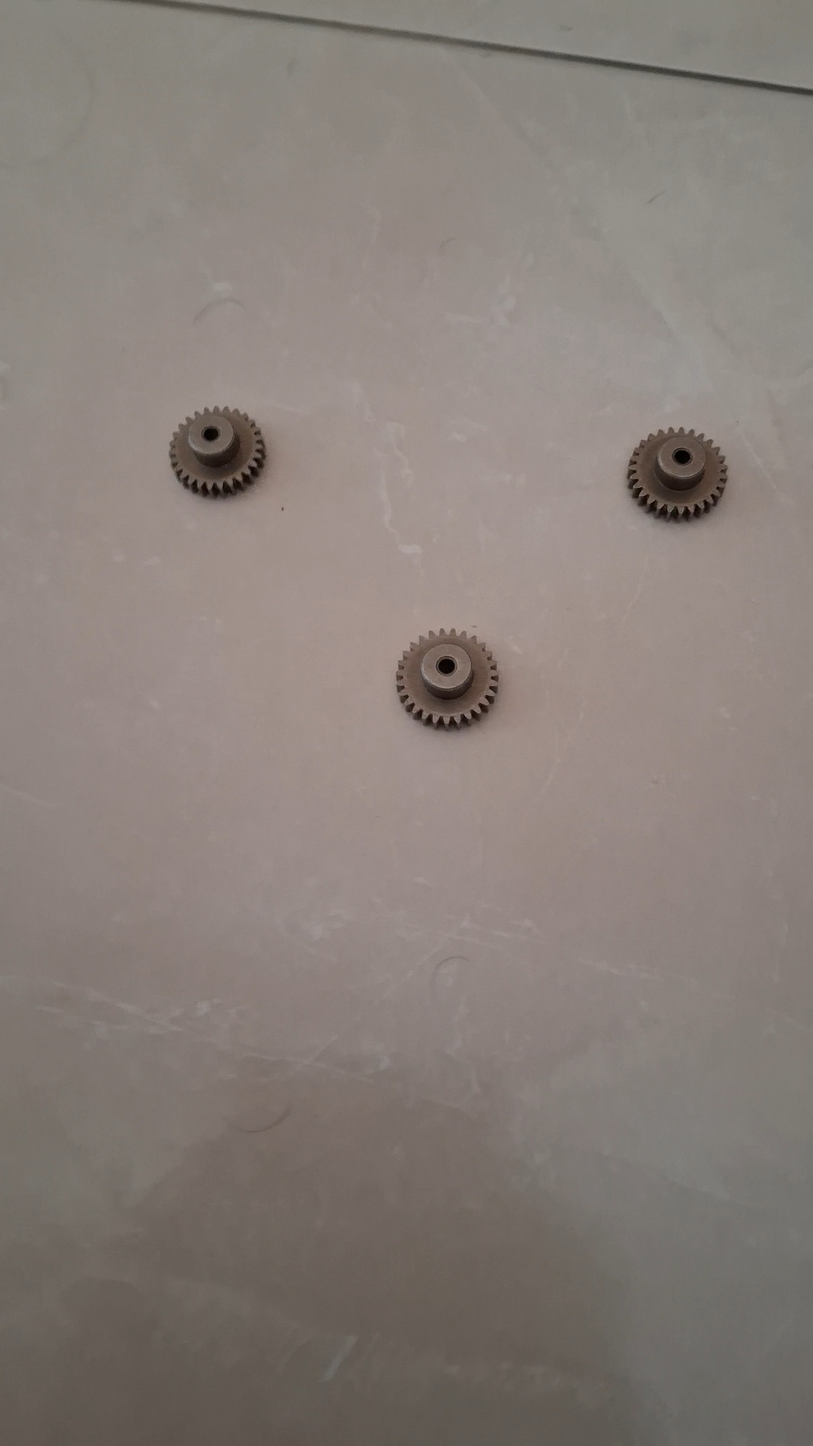spur gear: (396, 630, 498, 728), (627, 429, 727, 519), (170, 408, 265, 495)
